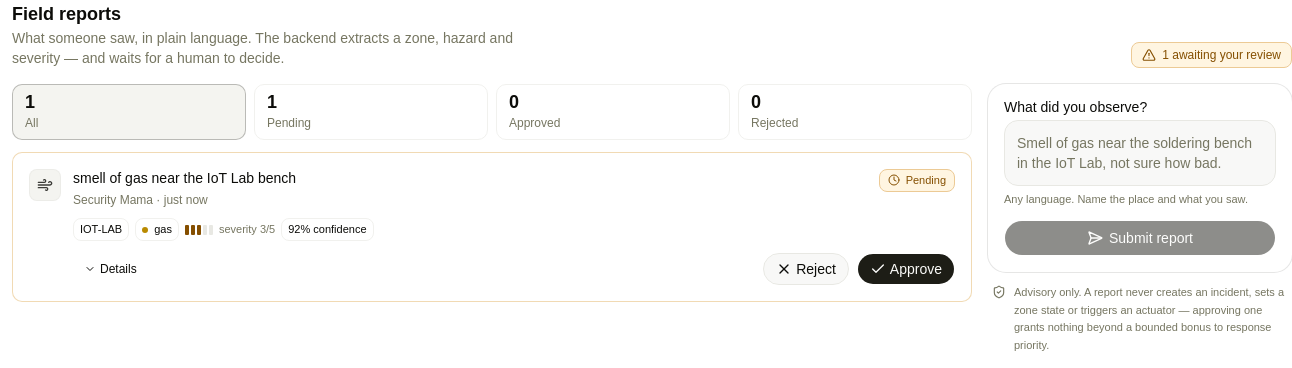
Scenario: reports page · review queue › abandons an armed rejection on cancel
This screenshot has width=1292, height=368.
Click the button "Reject": [806, 269] box [763,253,849,285]
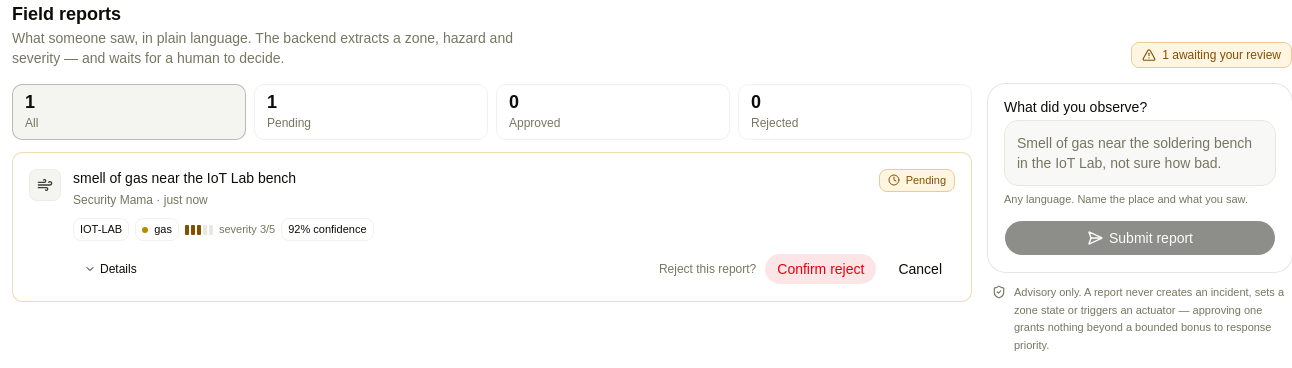
Click the button "Cancel": [920, 269] box [885,253,955,285]
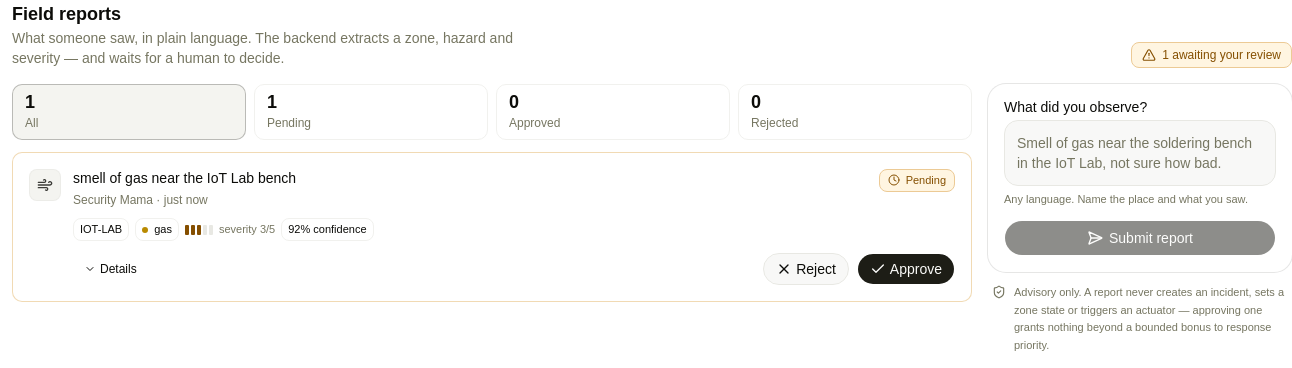
Now the button "Reject" is shown, box [763,253,849,285]
